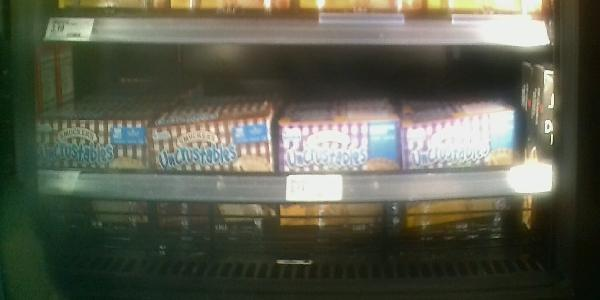icecream: (402, 97, 523, 174), (28, 113, 153, 178), (277, 110, 402, 173), (151, 113, 271, 176)
